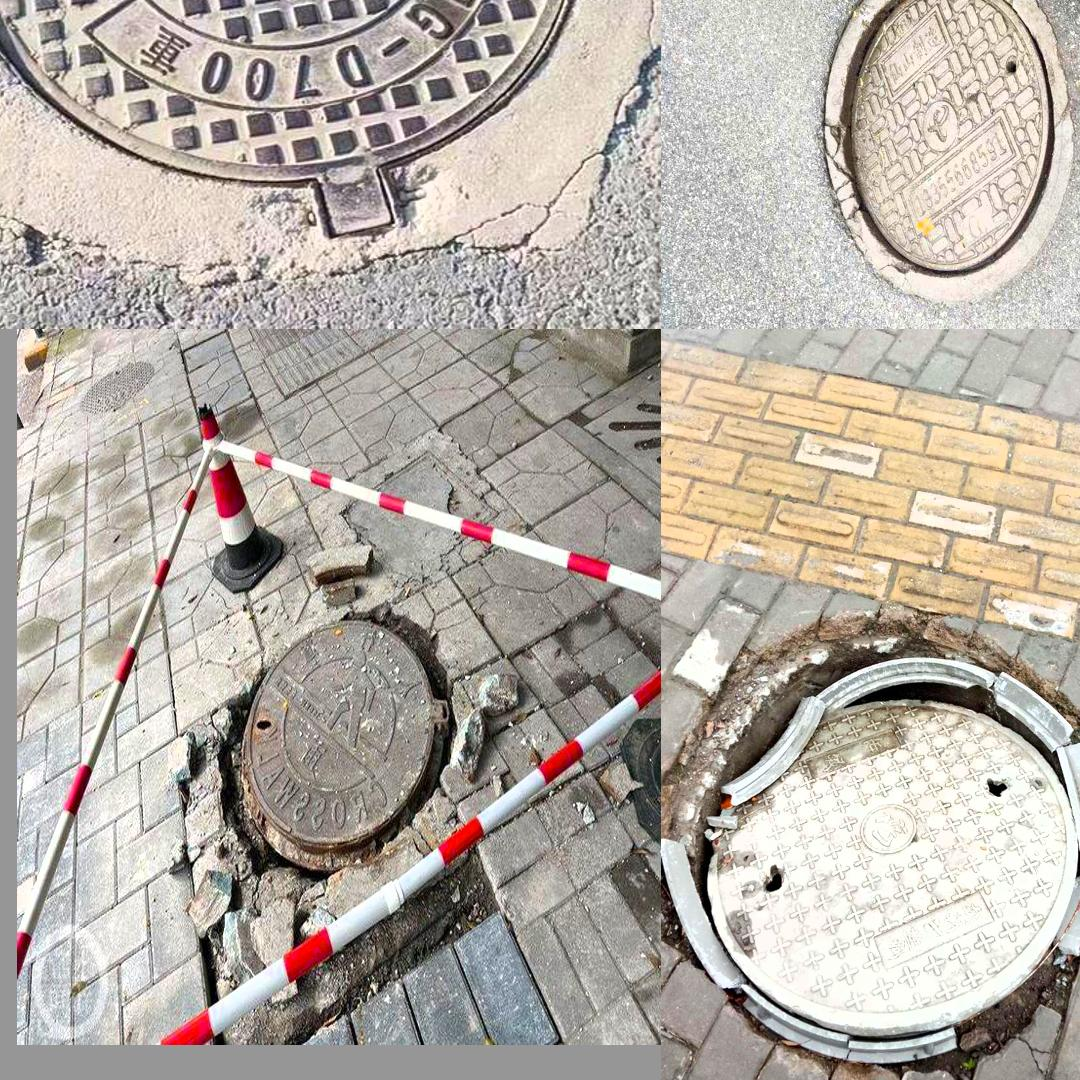circle: (665, 612, 1080, 1080), (0, 0, 635, 267), (187, 575, 501, 1020), (789, 0, 1080, 300)
